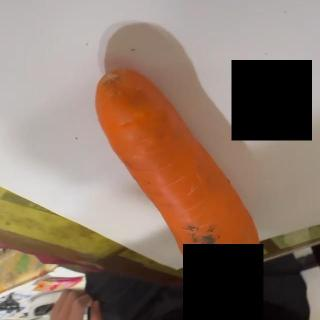carrot: (93, 65, 261, 288)
